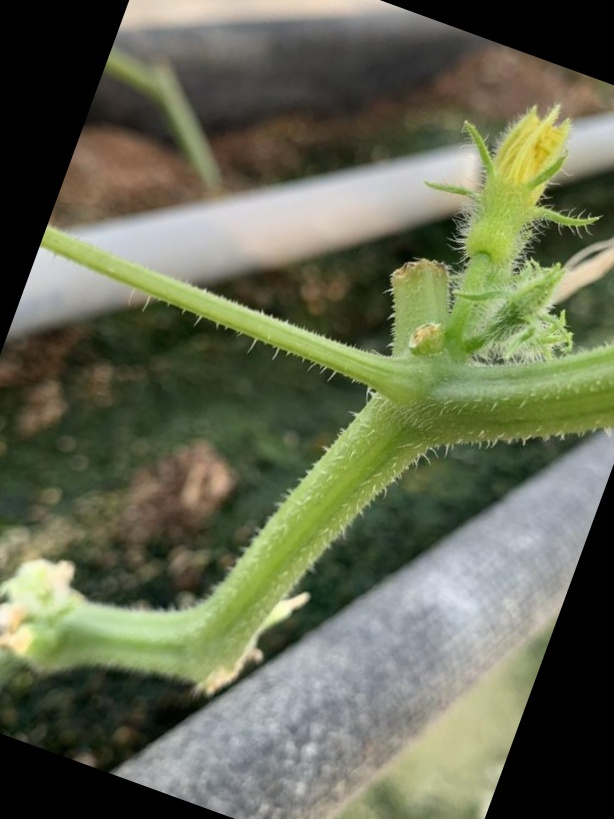bud: (419, 104, 588, 277)
